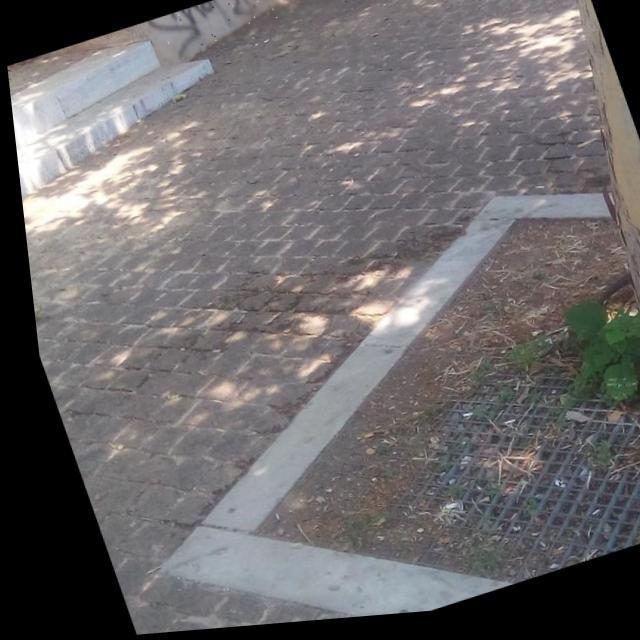-: (144, 0, 380, 66)
